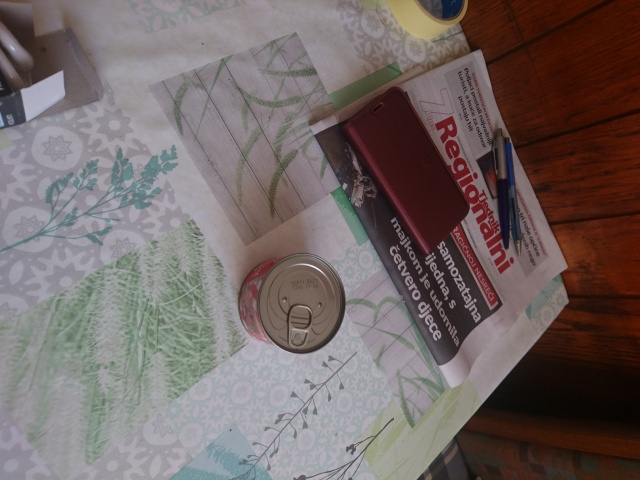Podravka Luncheon Meat 150g: (234, 250, 349, 358)
